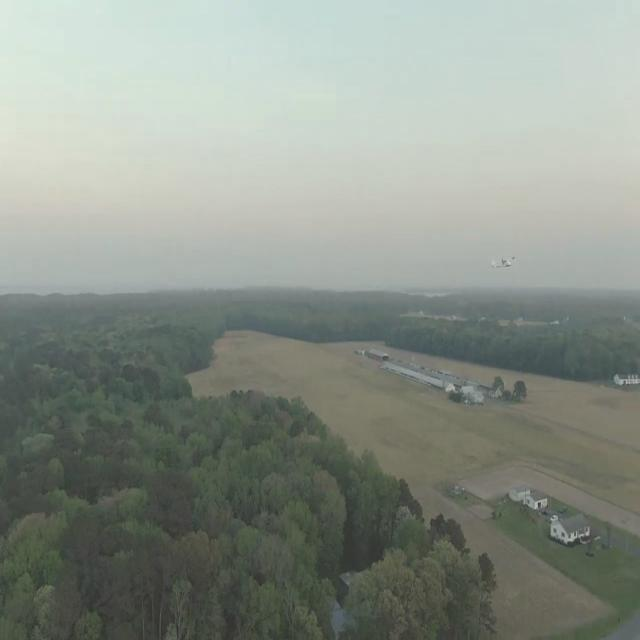iha: (486, 247, 520, 265)
